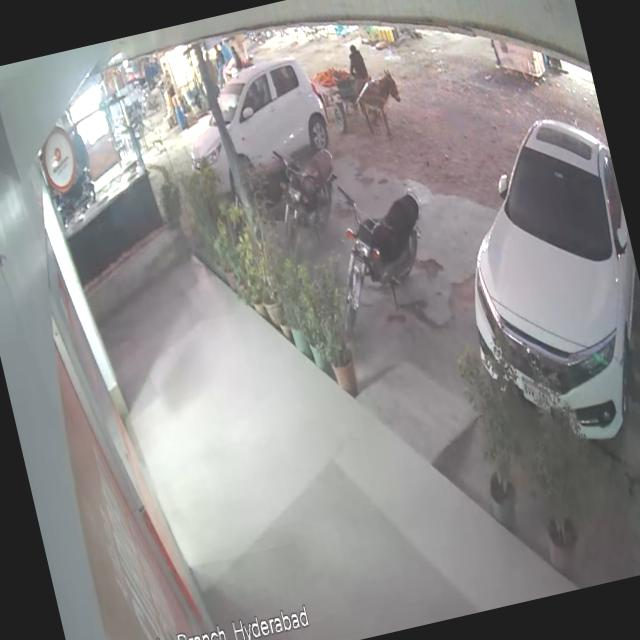Car: (419, 61, 640, 475), (150, 36, 339, 192)
Motorcycle: (309, 156, 455, 340), (269, 135, 354, 240)
